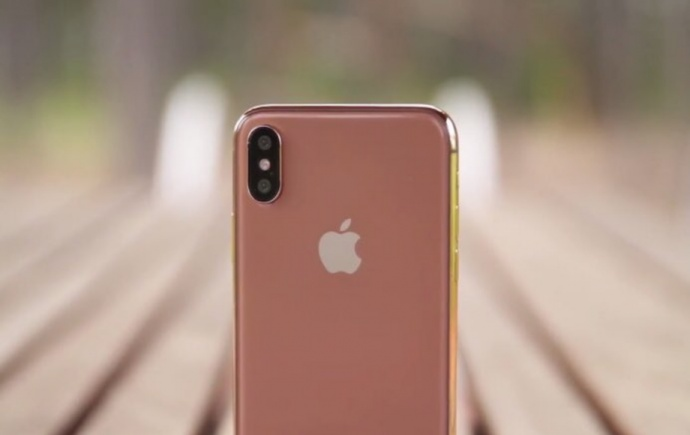apple: (311, 210, 382, 286)
